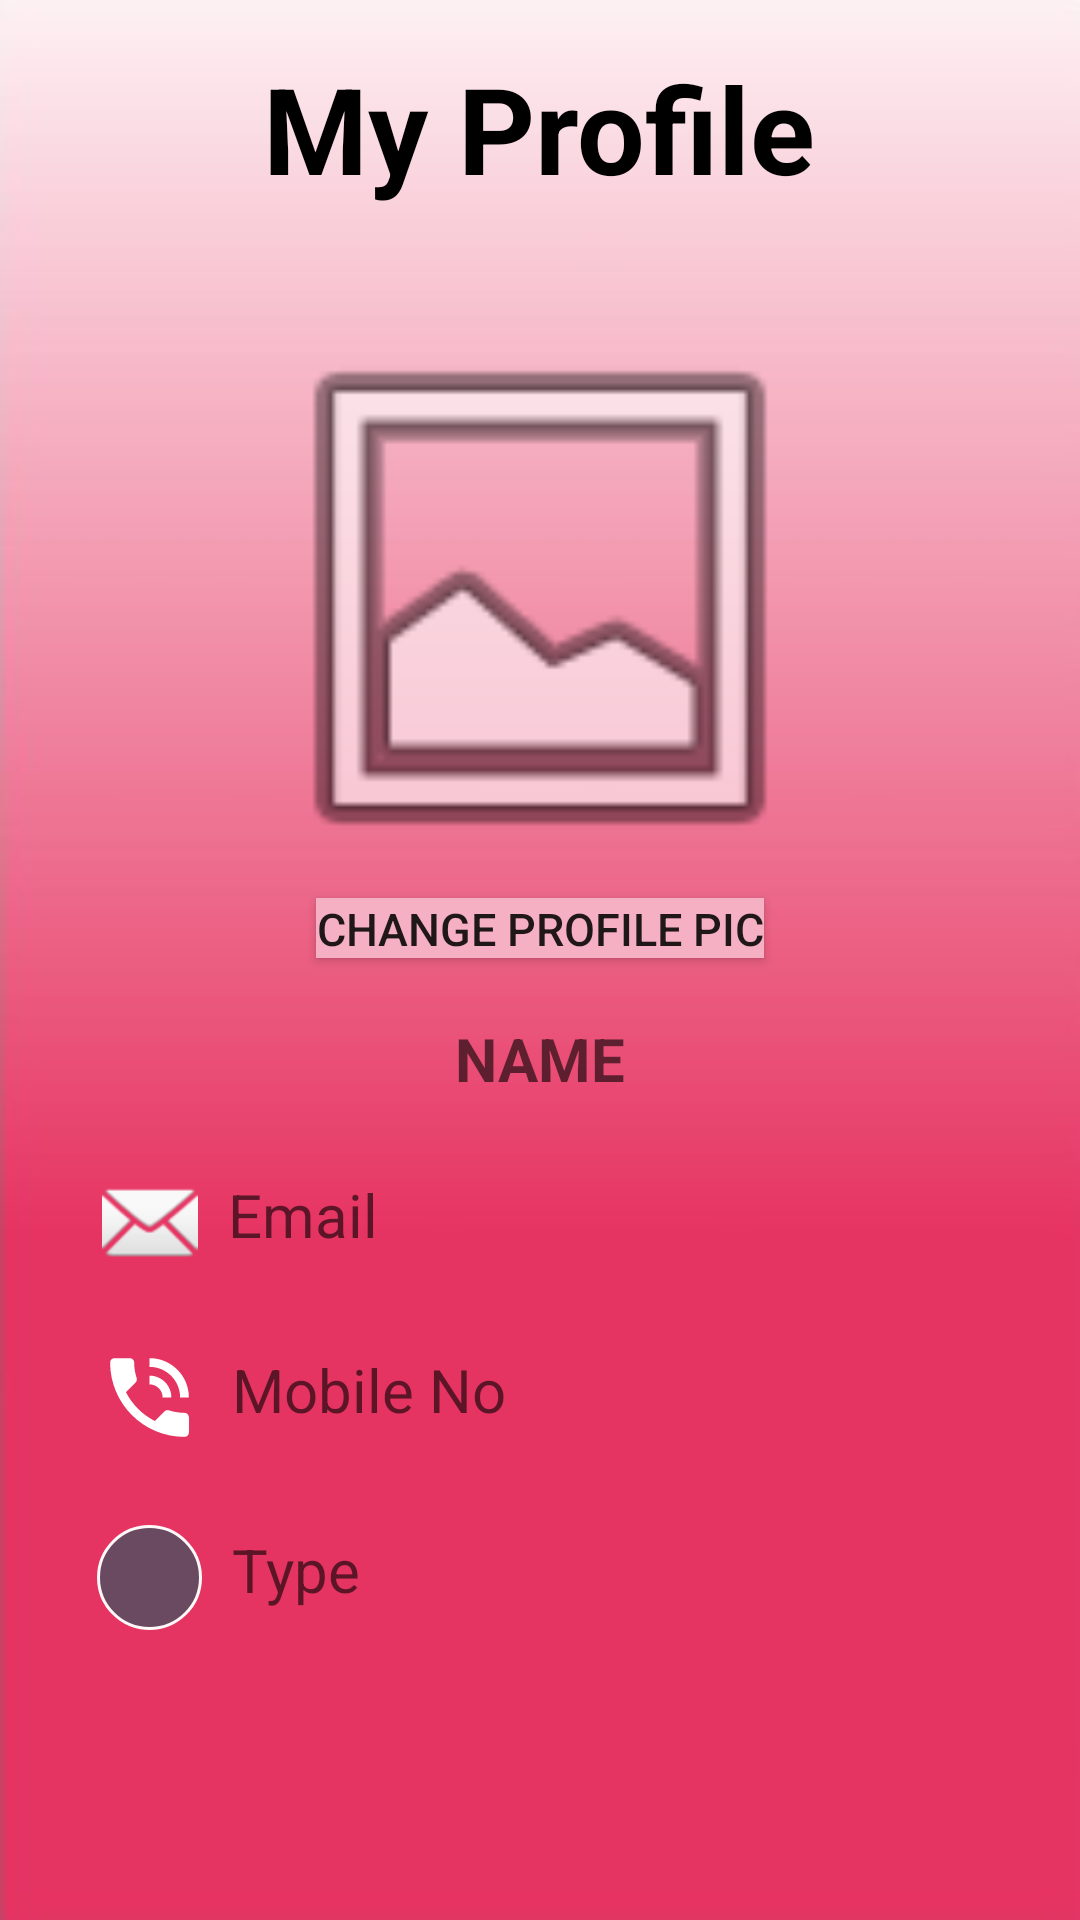

Icon bounding boxes for this 1080w x 1920h phone screenshot, format box(x1, y1, x2, y2):
speakerphone: box(110, 1358, 189, 1437)
